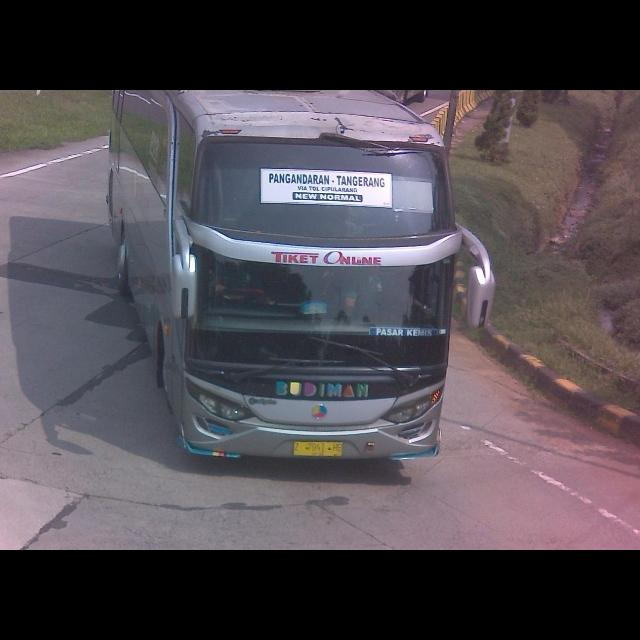plate: (293, 439, 345, 458)
